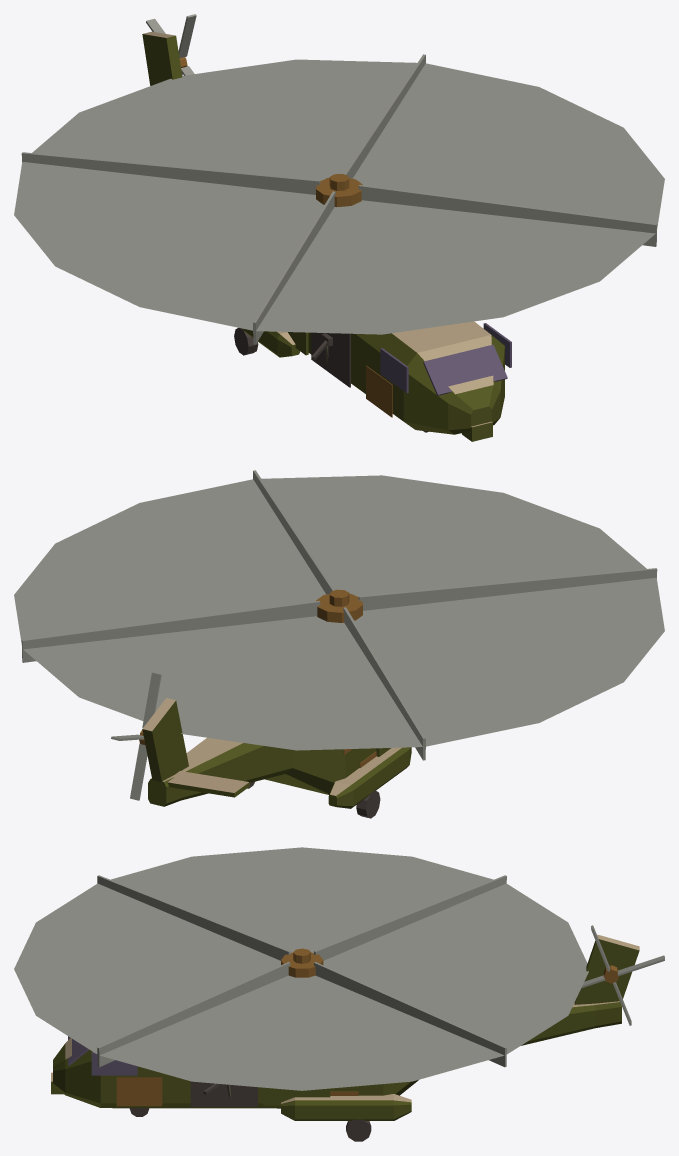
Rendered from SM_NH90_v1_Liso_LOD0.fbx.
The picture shows the model from 3 angles, top to bottom: view 1: azimuth 30°, elevation 25°; view 2: azimuth 150°, elevation 25°; view 3: azimuth 270°, elevation 25°; orthographic projection. The views are drawn at different scales.
Parts seen in each view (by area): view 1: DiscoRotor, SM_bloques.nh90_v1_LOD0, RotorPrincipal, RotorCola; view 2: DiscoRotor, SM_bloques.nh90_v1_LOD0, RotorPrincipal, RotorCola; view 3: DiscoRotor, SM_bloques.nh90_v1_LOD0, RotorPrincipal, RotorCola.
Boxes of the visible parts, left/top/right/bottom form: DiscoRotor: left=14, top=59, right=664, bottom=334; SM_bloques.nh90_v1_LOD0: left=142, top=31, right=511, bottom=441; RotorPrincipal: left=21, top=54, right=657, bottom=344; RotorCola: left=146, top=14, right=196, bottom=75; DiscoRotor: left=14, top=475, right=664, bottom=750; SM_bloques.nh90_v1_LOD0: left=142, top=698, right=411, bottom=818; RotorPrincipal: left=21, top=470, right=657, bottom=760; RotorCola: left=111, top=672, right=161, bottom=800; DiscoRotor: left=14, top=847, right=588, bottom=1090; SM_bloques.nh90_v1_LOD0: left=51, top=934, right=639, bottom=1141; RotorPrincipal: left=97, top=875, right=506, bottom=1067; RotorCola: left=581, top=925, right=664, bottom=1025.
Bounding box in the file's own units: 16.3 × 6.05 × 18.41.
